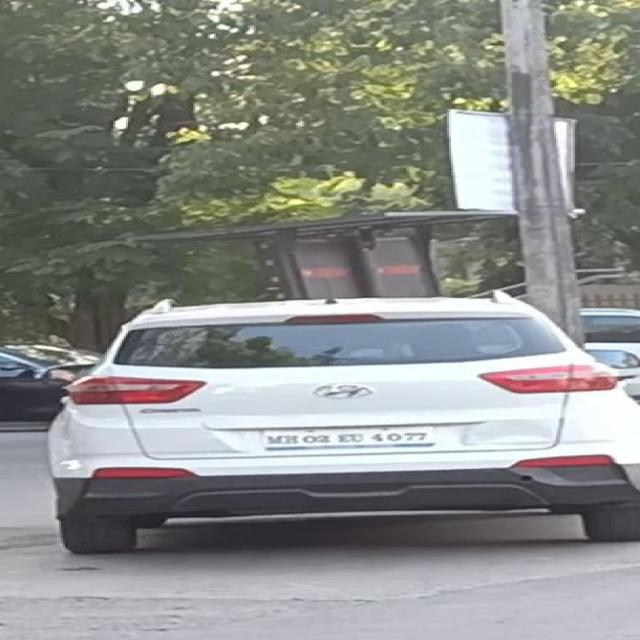Plate: (255, 424, 431, 446)
